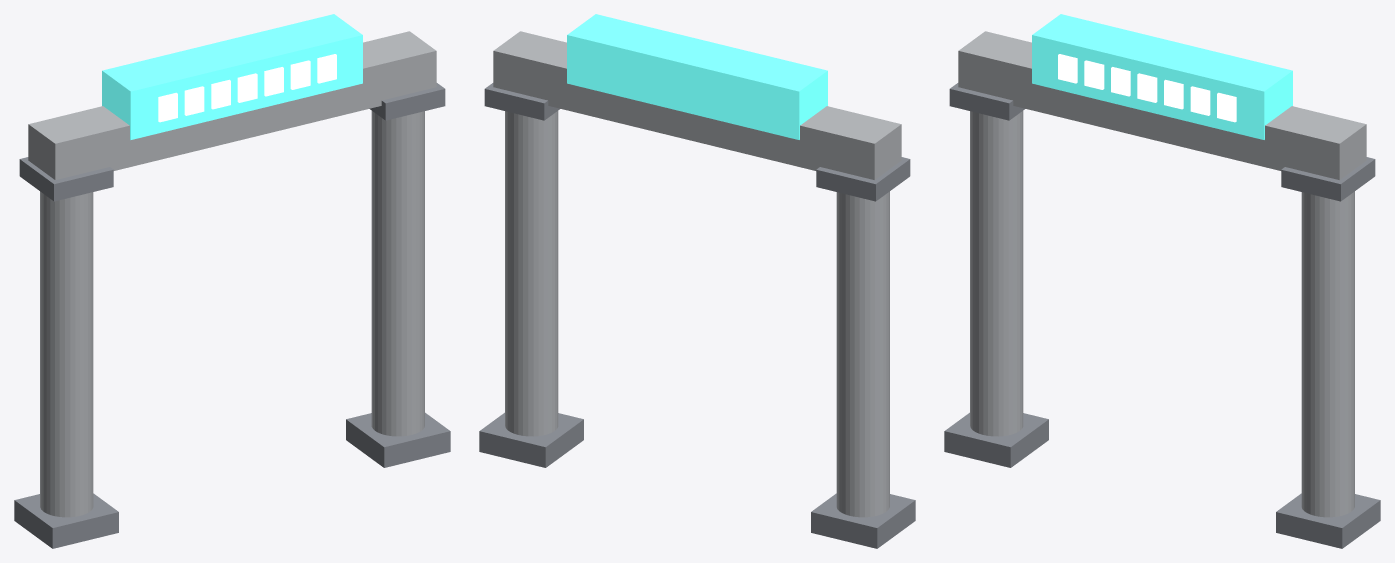
File: welcome_arch.glb
3 views of the same model, side by side, from view 1: azimuth 30°, elevation 25°; view 2: azimuth 150°, elevation 25°; view 3: azimuth 330°, elevation 25° (orthographic).
Visible parts, largest first — view 1: Pillar_-5, Pillar_5, ArchBeam, ArchHeader, PillarBase_5, PillarBase_-5, PillarCap_-5, PillarCap_5, Letter_1, Letter_3, Letter_5, Letter_4 (+3 smaller); view 2: ArchHeader, Pillar_-5, Pillar_5, ArchBeam, PillarBase_5, PillarBase_-5, PillarCap_-5, PillarCap_5; view 3: Pillar_5, Pillar_-5, ArchBeam, ArchHeader, PillarBase_-5, PillarBase_5, PillarCap_5, PillarCap_-5, Letter_5, Letter_3, Letter_1, Letter_0 (+3 smaller).
Boxes of the visible parts, bbox=[...] form: Pillar_-5: bbox=[40, 191, 93, 517]; Pillar_5: bbox=[371, 111, 424, 436]; ArchBeam: bbox=[28, 31, 436, 179]; ArchHeader: bbox=[102, 14, 362, 139]; PillarBase_5: bbox=[346, 412, 450, 467]; PillarBase_-5: bbox=[14, 493, 118, 548]; PillarCap_-5: bbox=[19, 157, 113, 201]; PillarCap_5: bbox=[369, 83, 445, 120]; Letter_1: bbox=[184, 86, 204, 115]; Letter_3: bbox=[237, 73, 257, 102]; Letter_5: bbox=[290, 60, 310, 89]; Letter_4: bbox=[264, 67, 283, 96]; ArchHeader: bbox=[567, 14, 827, 139]; Pillar_-5: bbox=[836, 191, 889, 517]; Pillar_5: bbox=[505, 111, 558, 436]; ArchBeam: bbox=[493, 31, 901, 179]; PillarBase_5: bbox=[479, 412, 583, 467]; PillarBase_-5: bbox=[811, 493, 915, 548]; PillarCap_-5: bbox=[816, 157, 910, 201]; PillarCap_5: bbox=[484, 83, 560, 120]; Pillar_5: bbox=[1301, 191, 1354, 517]; Pillar_-5: bbox=[970, 111, 1023, 436]; ArchBeam: bbox=[958, 31, 1366, 179]; ArchHeader: bbox=[1032, 14, 1292, 139]; PillarBase_-5: bbox=[944, 412, 1048, 467]; PillarBase_5: bbox=[1276, 493, 1380, 548]; PillarCap_5: bbox=[1281, 157, 1375, 201]; PillarCap_-5: bbox=[949, 83, 1025, 120]; Letter_5: bbox=[1190, 86, 1210, 115]; Letter_3: bbox=[1137, 73, 1157, 102]; Letter_1: bbox=[1084, 60, 1104, 89]; Letter_0: bbox=[1058, 54, 1077, 83].
Size of the model in its own units: 12 by 12.5 by 2.
